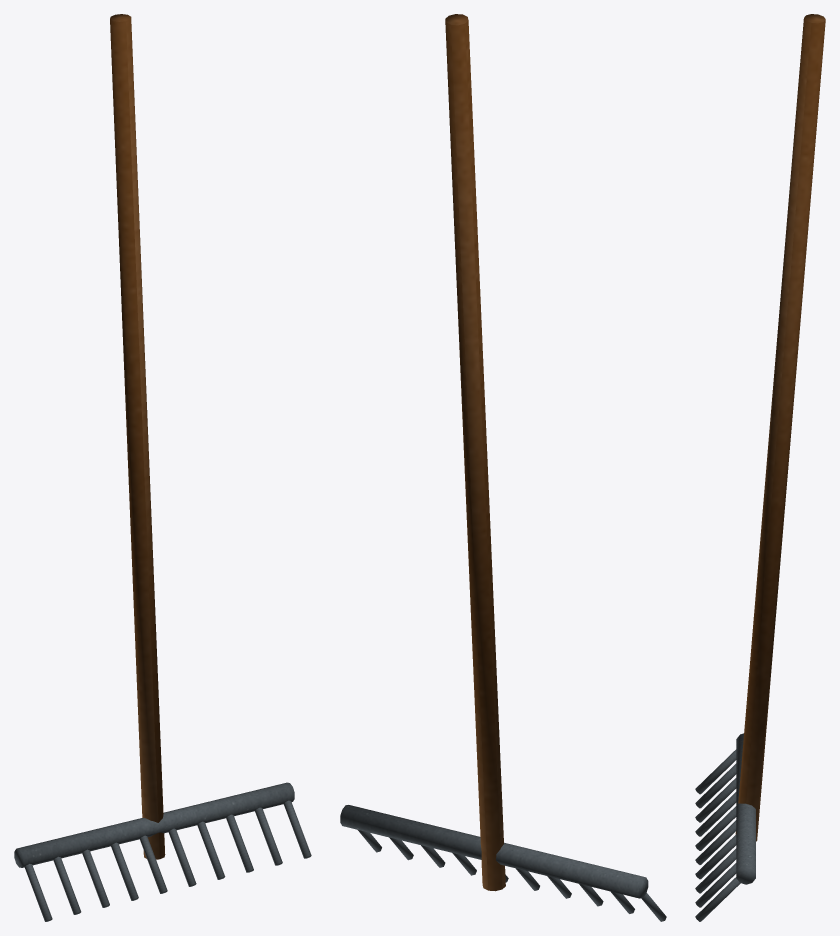
File: Prop_Rake.fbx
3 renders of one model, left to right at view 1: azimuth 30°, elevation 25°; view 2: azimuth 150°, elevation 25°; view 3: azimuth 270°, elevation 25°, orthographic. The views are drawn at different scales.
Parts seen in each view (by area): view 1: Prop_Rake__Body; view 2: Prop_Rake__Body; view 3: Prop_Rake__Body.
Part boxes in pixels (bbox=[...]): Prop_Rake__Body: bbox=[14, 14, 311, 921]; Prop_Rake__Body: bbox=[340, 14, 666, 921]; Prop_Rake__Body: bbox=[695, 14, 825, 921].
Bounding box in the file's own units: 0.46 × 1.35 × 0.1903.
Materials: 1 (1 with a texture image).
